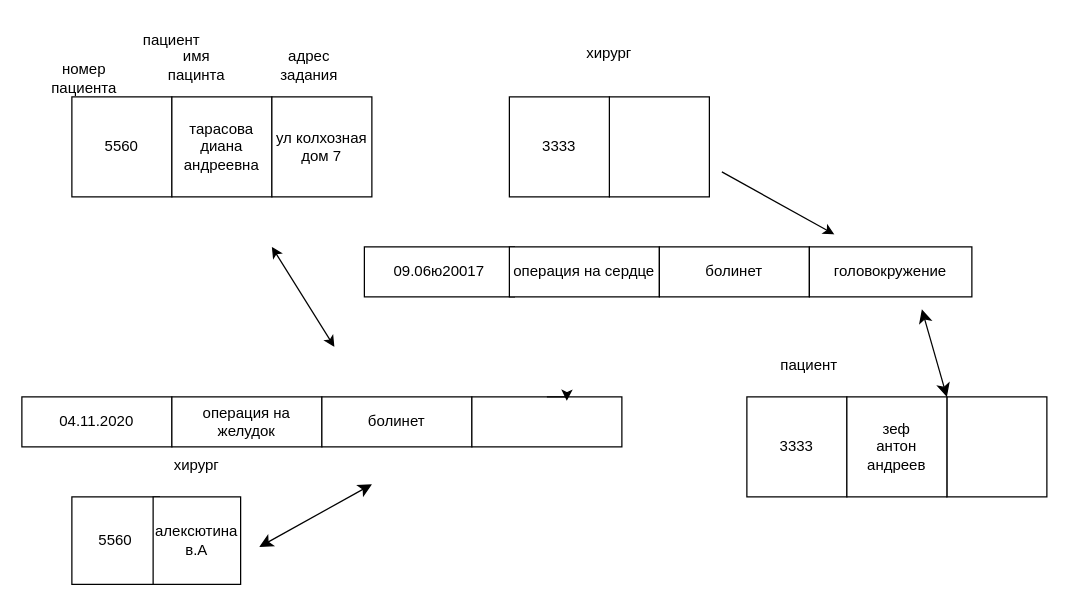
The diagram is 1069 pixels wide and 606 high, and some of its shapes have lost their labels. Here are the shapes that lost their labels. From the top down, the centre of each, then its label:
At (x=658, y=146): "левицкая анастасия владимировна".
At (x=546, y=421): "тошнота".
At (x=996, y=446): "ул.садовая дом 33".
